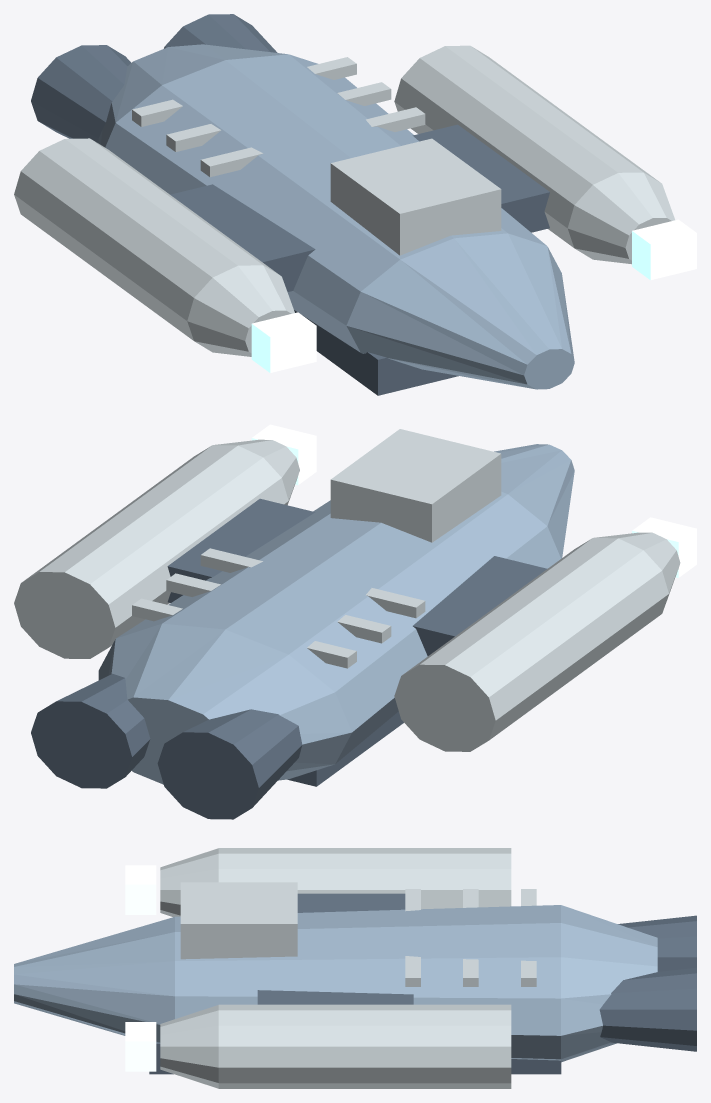
3 renders of one model, top to bottom at view 1: azimuth 30°, elevation 25°; view 2: azimuth 150°, elevation 25°; view 3: azimuth 270°, elevation 25°, orthographic. The views are drawn at different scales.
Bounding box in the file's own units: 5.15 × 1.71 × 7.49.
